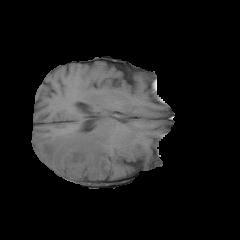glioma: (41, 130, 120, 180)
